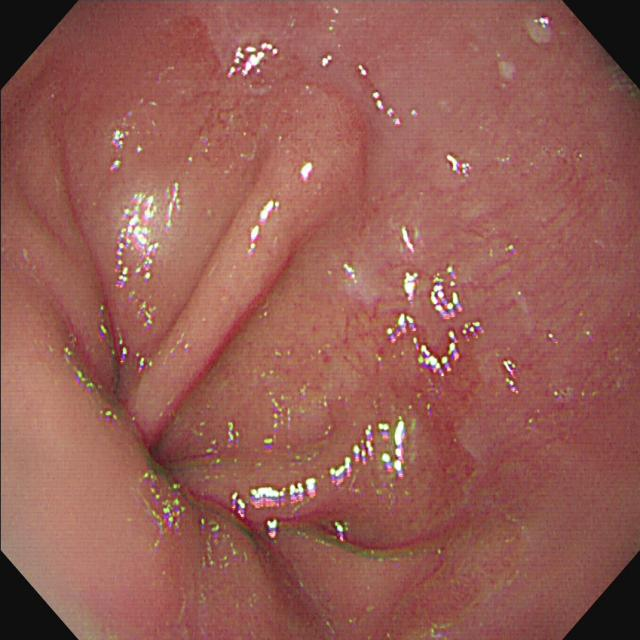I: (7, 7, 499, 630)
U: (233, 422, 408, 515), (117, 184, 184, 291), (386, 314, 485, 377), (227, 42, 280, 77), (431, 265, 464, 321), (251, 200, 282, 256), (404, 272, 420, 304), (299, 163, 314, 181)
